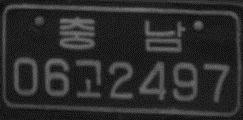0: (12, 55, 38, 97)
2: (107, 60, 134, 99)
4: (138, 59, 166, 100)
6: (43, 57, 70, 98)
7: (203, 62, 230, 103)
9: (171, 61, 198, 102)
고: (73, 58, 103, 99)
충남_D: (58, 16, 185, 53)
